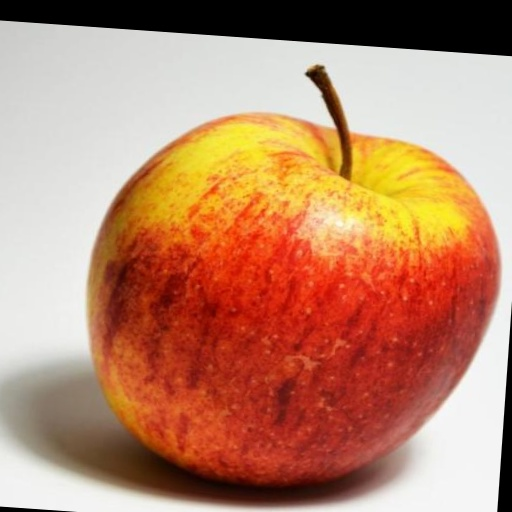fruit: (87, 114, 499, 486)
